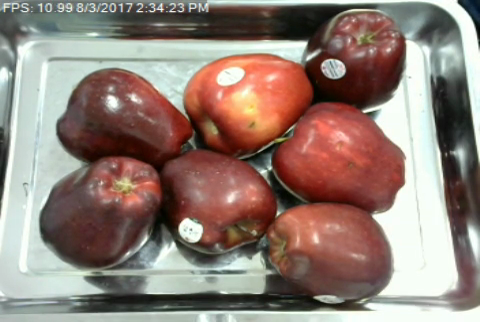Apple: (270, 99, 409, 214), (179, 49, 318, 160), (260, 196, 399, 305), (54, 63, 195, 168), (36, 155, 161, 270), (157, 145, 280, 260), (301, 4, 409, 110)
